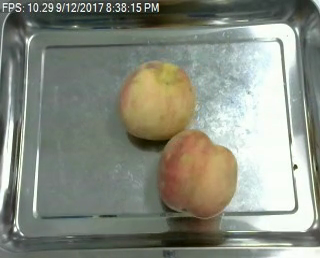Peach: (156, 129, 238, 219), (119, 59, 197, 140)
